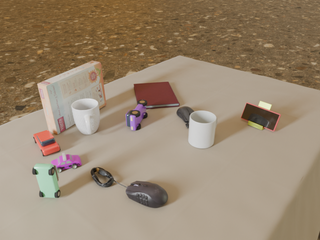book: (134, 82, 180, 109)
box: (38, 61, 106, 134)
cup: (188, 111, 217, 148), (72, 99, 100, 134)
mouse: (126, 181, 168, 208), (177, 106, 195, 128)
phone: (241, 103, 281, 131)
toy_car: (32, 163, 60, 198), (33, 130, 60, 156), (126, 100, 147, 130), (51, 153, 81, 172)
